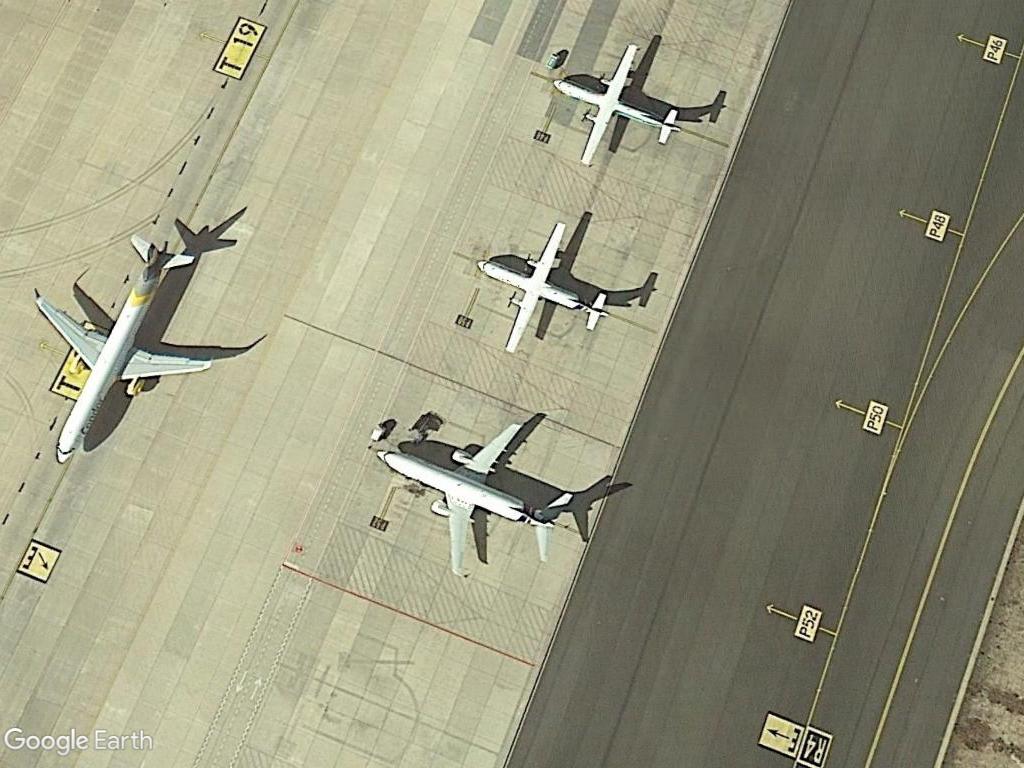airliner: (32, 236, 221, 467), (377, 404, 580, 584)
propeller: (474, 219, 616, 358), (547, 39, 687, 171)
